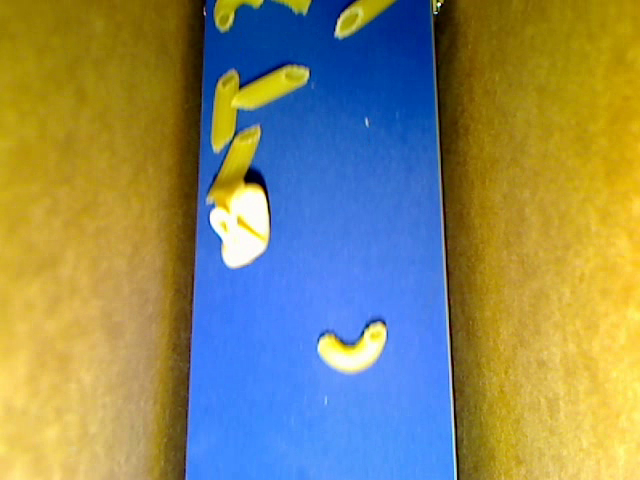elbow: (317, 318, 388, 375), (213, 1, 264, 34)
penne: (205, 125, 262, 205), (230, 64, 310, 110), (211, 67, 238, 153), (335, 1, 394, 40)
